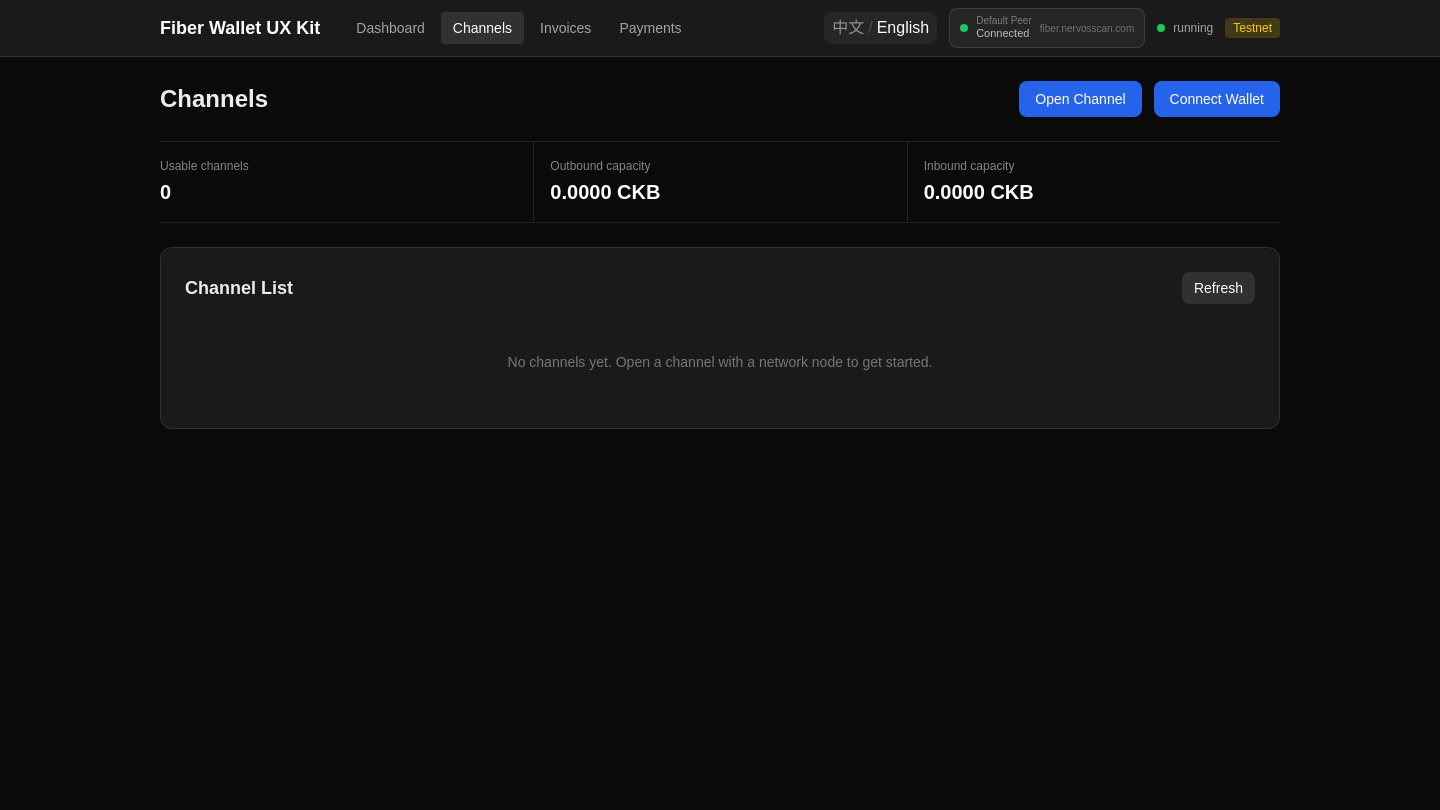
Test: ChannelsPage › rejects an invalid funding amount before reading the wallet
The image size is (1440, 810).
Click the button "Open Channel" at (1080, 99), box [1019, 81, 1142, 117]
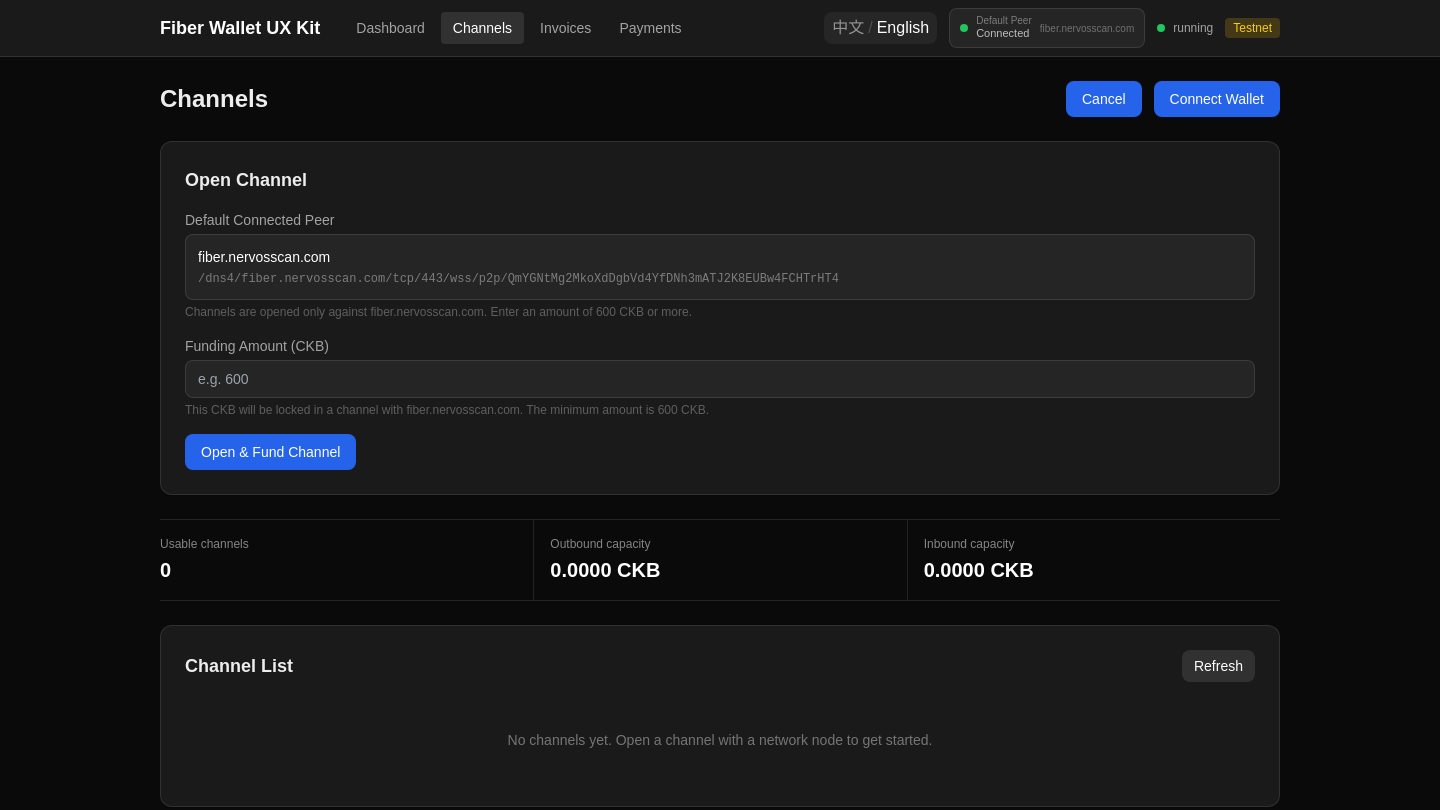
Type "600.000000001" into the field with placeholder "e.g. 600" at (720, 379), box [185, 360, 1255, 398]
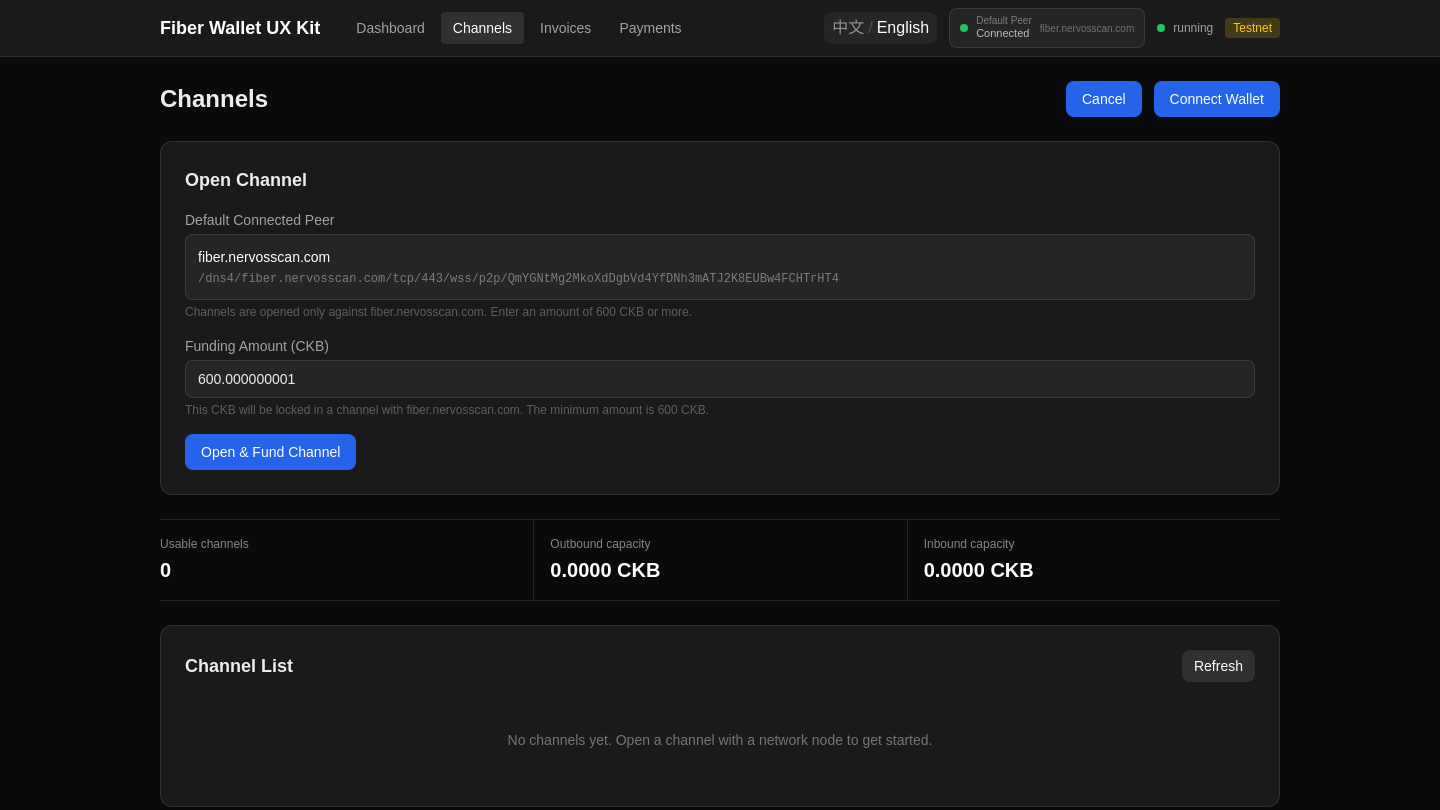
Click the button "Open & Fund Channel" at (271, 452), box [185, 434, 356, 470]
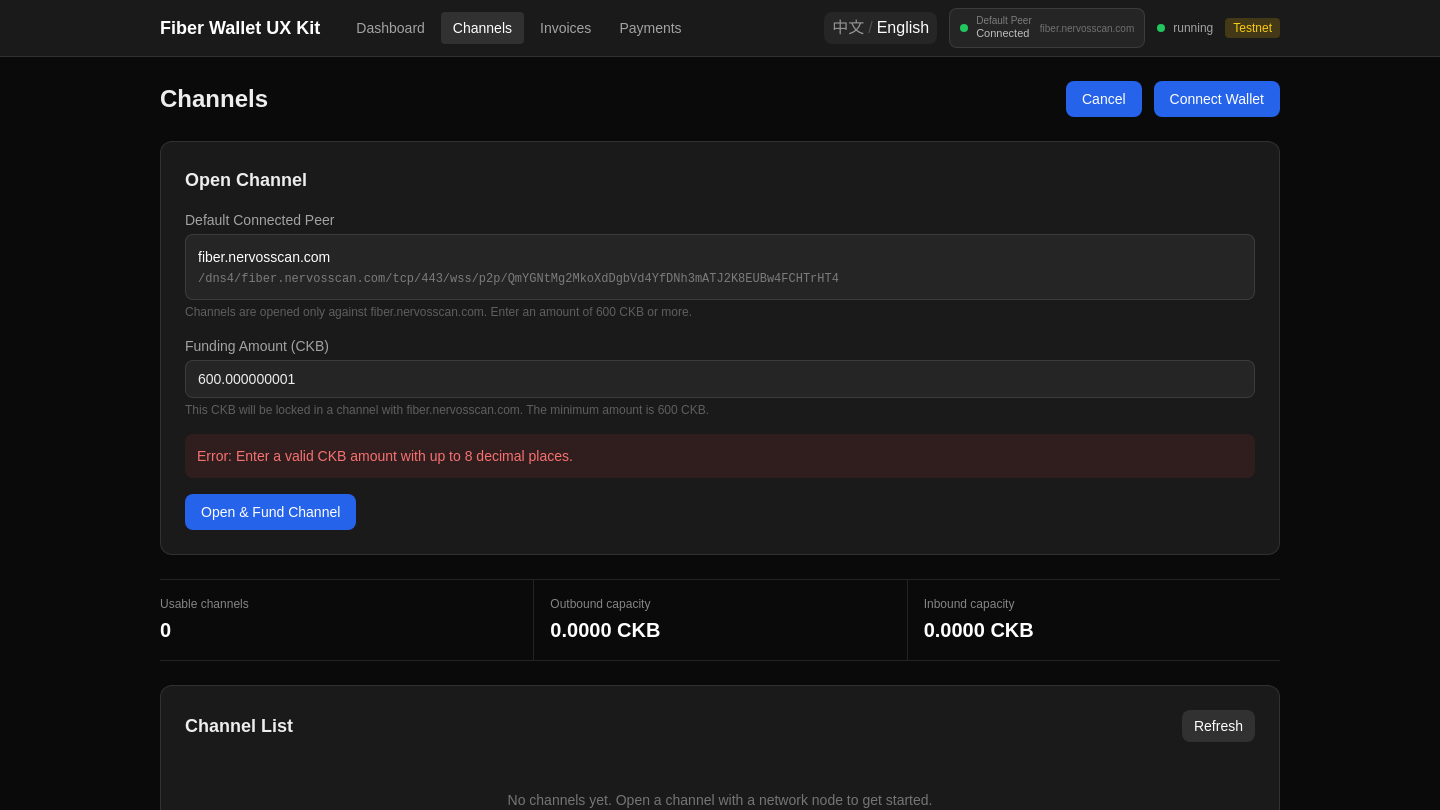
Expected: the text "Error: Enter a valid CKB amount with up to 8 decimal places." is shown, [185, 434, 1255, 478]
